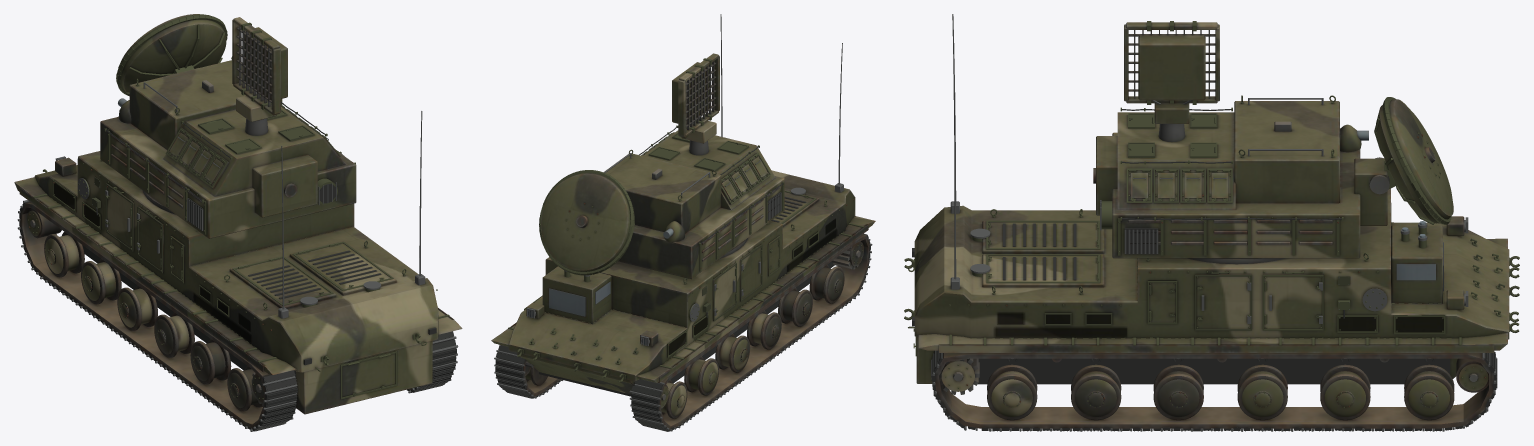
Rendered from tor.glb.
3 views of the same model, side by side, from view 1: azimuth 30°, elevation 25°; view 2: azimuth 150°, elevation 25°; view 3: azimuth 270°, elevation 25° (orthographic). The views are drawn at different scales.
Visible parts, largest first — view 1: body_hull, turret_main, body_run, body_misc, body_hw, radar_antenna, turret_dish, body_trk, turret_hw, turret_detail, turret_hwd, body_detail (+2 smaller); view 2: body_hull, turret_main, body_run, turret_dish, body_misc, radar_antenna, body_trk, body_hw, turret_hw, turret_hwd, turret_detail, body_detail (+2 smaller); view 3: body_hull, turret_main, body_run, body_misc, body_hw, radar_antenna, body_belly, turret_dish, turret_hw, body_trk, turret_detail, body_detail (+2 smaller).
Part boxes in pixels (x1,y1,x2,y2): body_hull: [34, 151, 438, 414]; turret_main: [100, 60, 356, 238]; body_run: [20, 202, 453, 428]; body_misc: [14, 157, 462, 374]; body_hw: [33, 158, 449, 399]; radar_antenna: [232, 17, 287, 135]; turret_dish: [120, 14, 226, 94]; body_trk: [17, 200, 458, 431]; turret_hw: [104, 56, 355, 202]; turret_detail: [108, 65, 337, 234]; turret_hwd: [116, 14, 227, 96]; body_detail: [28, 156, 437, 399]; body_hull: [508, 170, 855, 394]; turret_main: [604, 130, 784, 279]; body_run: [497, 234, 869, 429]; turret_dish: [541, 173, 630, 271]; body_misc: [491, 216, 875, 382]; radar_antenna: [672, 53, 719, 155]; body_trk: [494, 233, 872, 431]; body_hw: [508, 190, 864, 382]; turret_hw: [629, 125, 784, 245]; turret_hwd: [539, 170, 634, 275]; turret_detail: [604, 139, 783, 271]; body_detail: [526, 187, 863, 407]; body_hull: [914, 188, 1509, 383]; turret_main: [1093, 101, 1368, 258]; body_run: [935, 353, 1493, 428]; body_misc: [918, 216, 1507, 352]; body_hw: [904, 209, 1519, 363]; radar_antenna: [1124, 22, 1219, 142]; body_belly: [978, 358, 1450, 384]; turret_dish: [1354, 99, 1453, 225]; turret_hw: [1120, 95, 1343, 220]; body_trk: [931, 350, 1497, 431]; turret_detail: [1100, 98, 1339, 255]; body_detail: [945, 217, 1485, 408].
Size of the model in its own units: 3.8 by 5.85 by 9.18.
10 materials, 4 textured.
